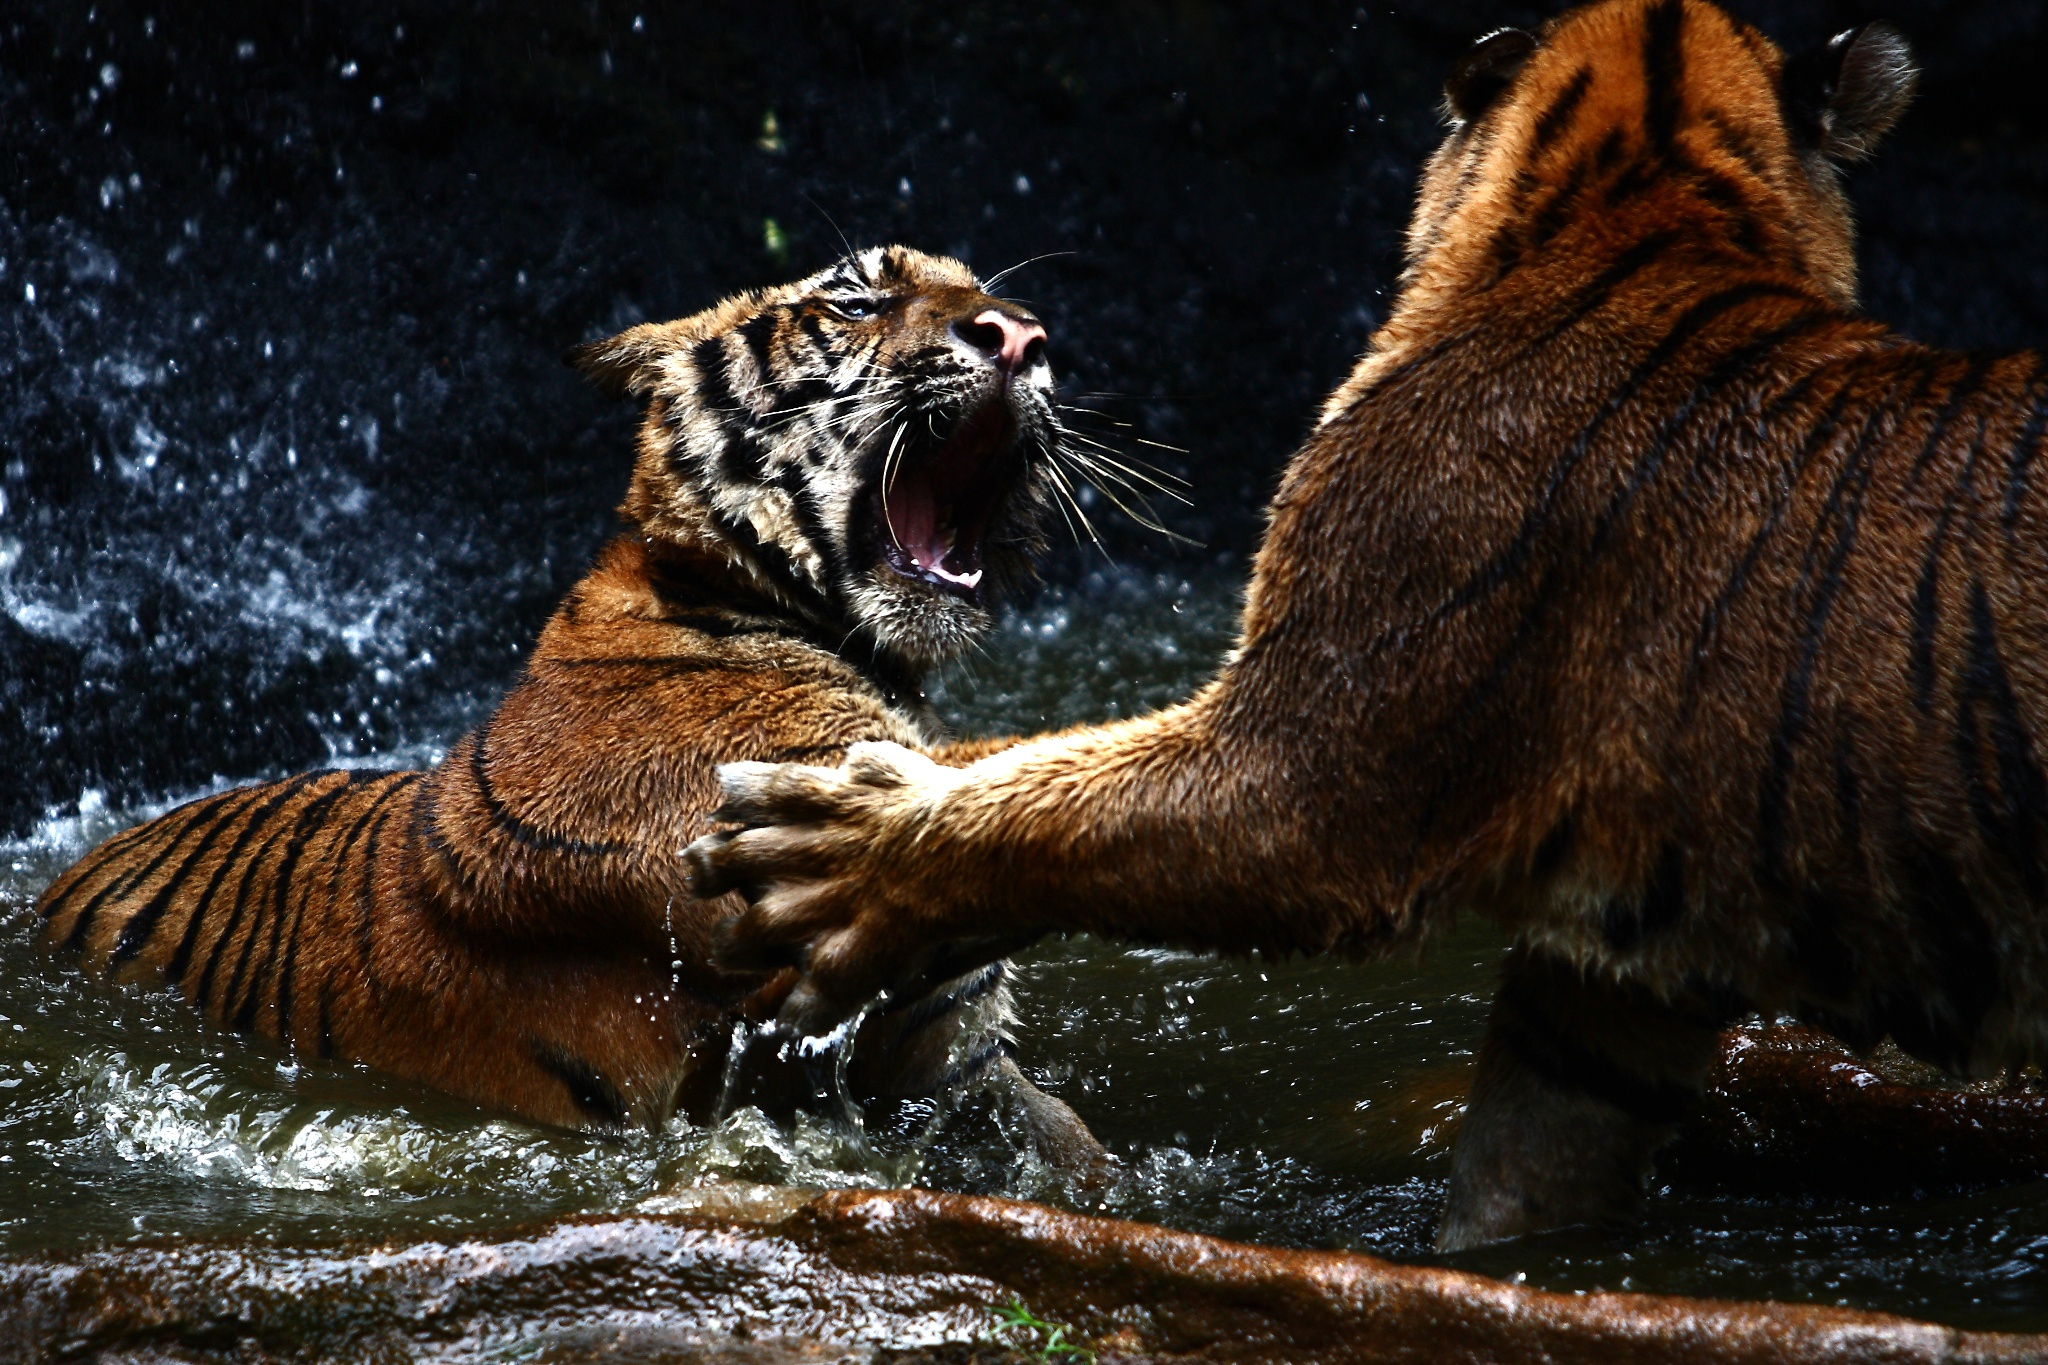tiger: (958, 66, 2037, 1080), (244, 216, 1244, 1088)
